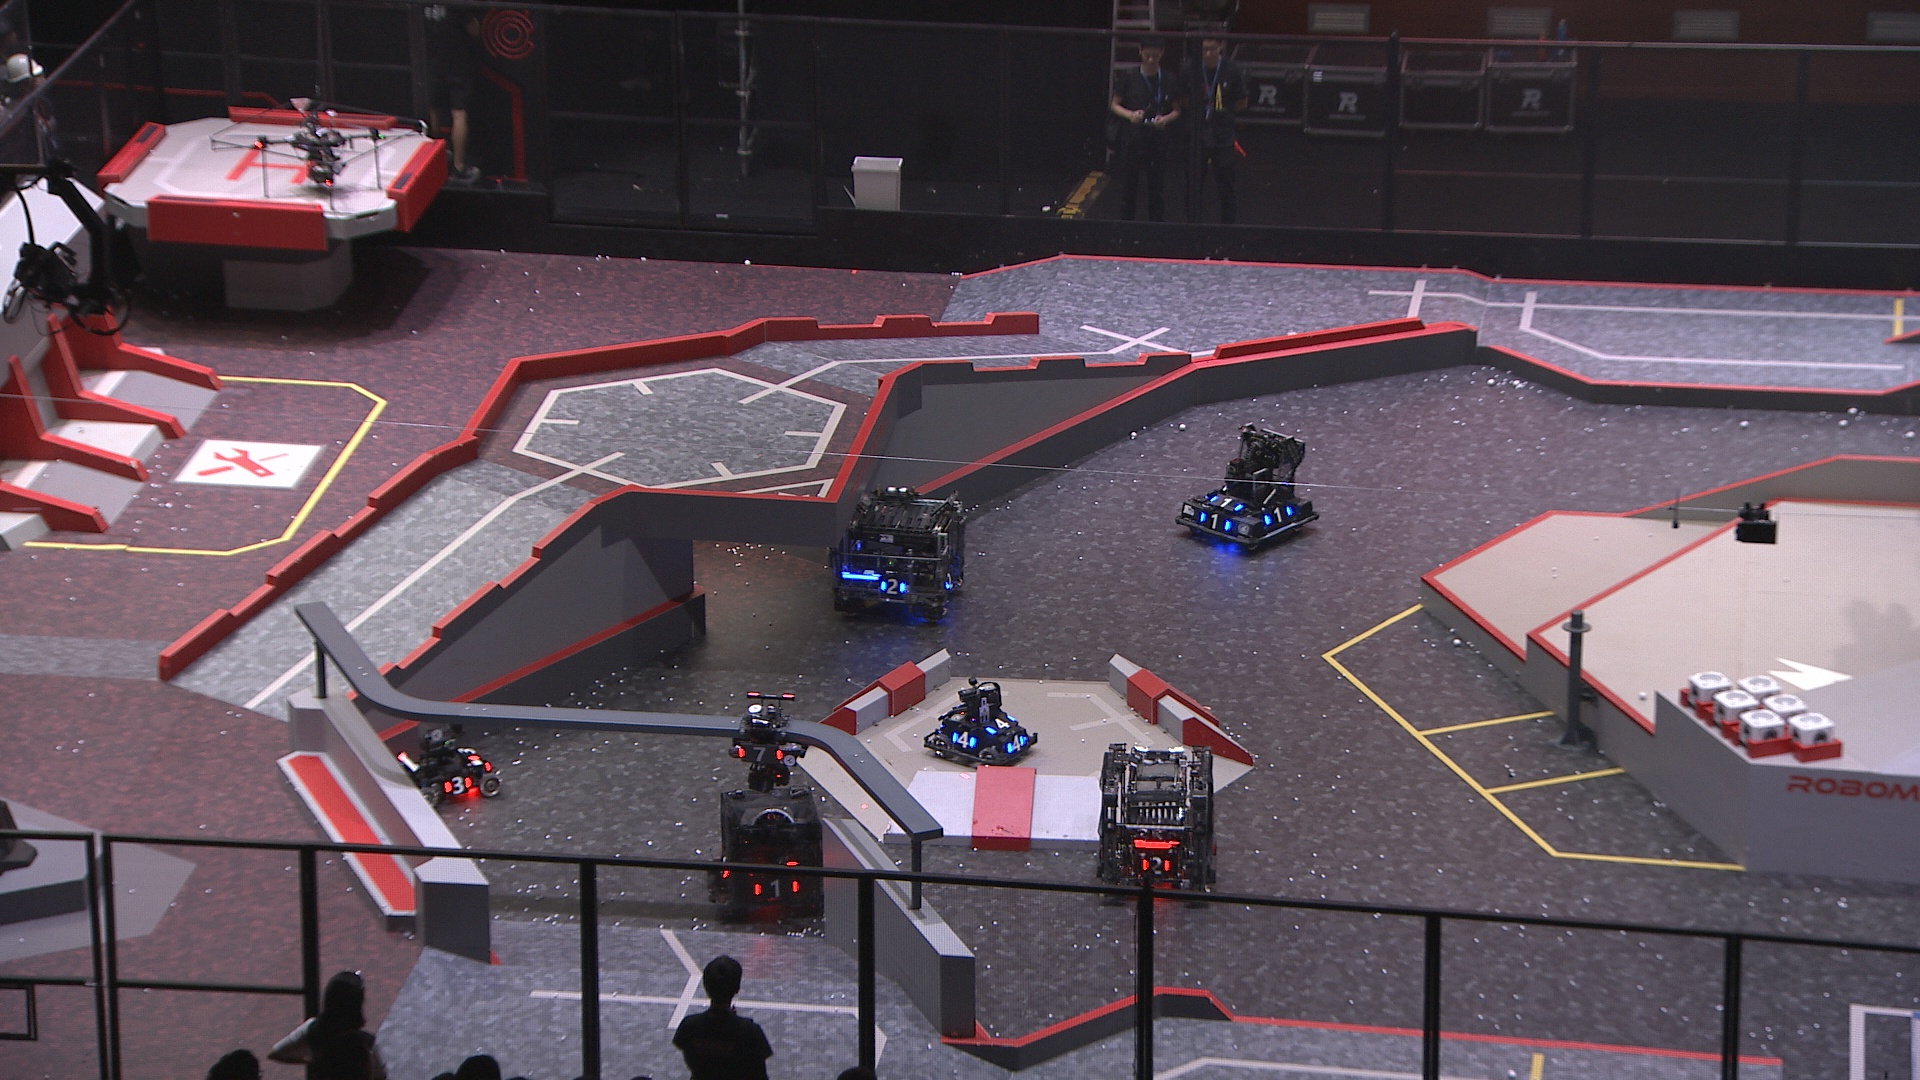armor: (750, 876, 799, 899), (1207, 491, 1247, 516), (438, 773, 472, 799), (736, 745, 785, 764), (1138, 855, 1172, 878), (1199, 509, 1234, 531), (984, 713, 1017, 737), (1261, 504, 1294, 526), (878, 574, 906, 597), (1004, 732, 1026, 754), (456, 742, 479, 764), (953, 731, 978, 746), (942, 570, 959, 589)
car: (1091, 737, 1226, 909), (1172, 422, 1325, 551), (829, 483, 971, 622), (712, 779, 827, 920), (918, 675, 1038, 769), (398, 723, 506, 807)
watcher: (724, 690, 808, 793)
